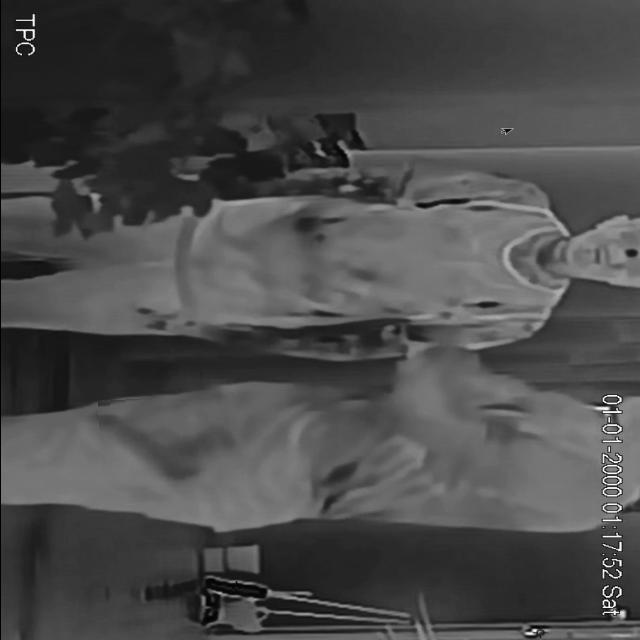Weapon: (98, 394, 238, 486)
